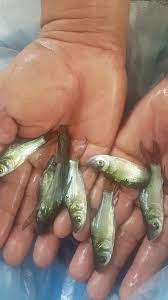fish: (96, 193, 114, 269), (67, 173, 86, 231), (142, 191, 166, 236), (94, 154, 133, 174), (35, 191, 55, 229), (1, 140, 19, 170), (39, 158, 56, 183)
